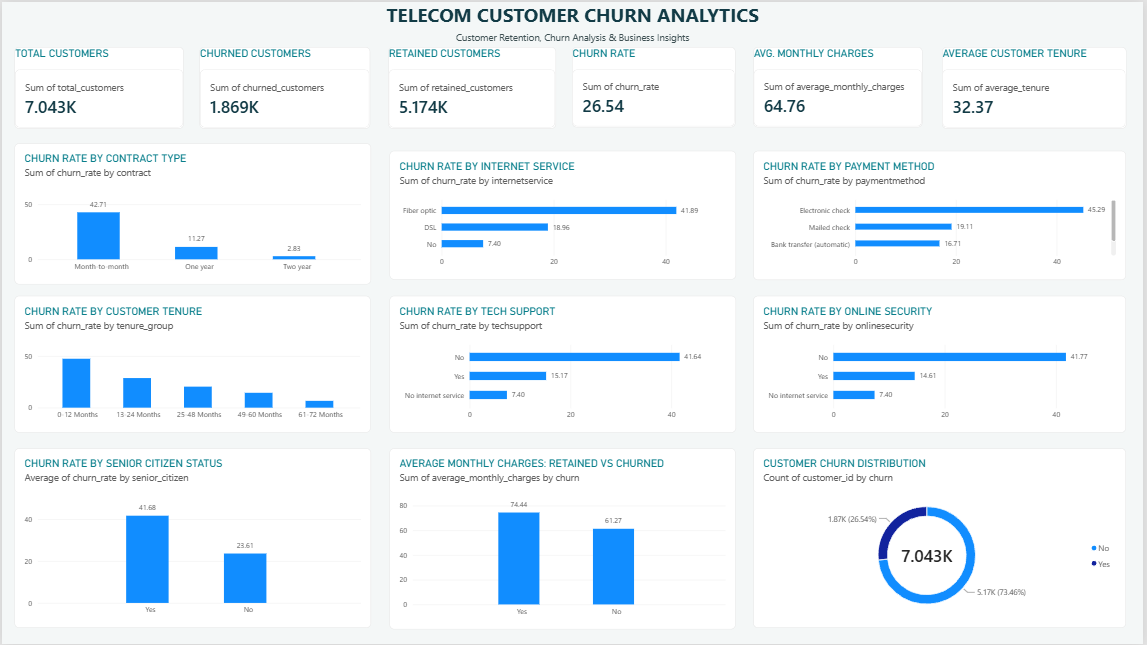

What the dashboard file says about the page in this screenshot:
{"tool":"powerbi","page":{"name":"Executive Overview","canvas":[1920,1080],"ordinal":0},"visuals":[{"type":"textbox","box":[0,0,1920.4,47.3],"z":0},{"type":"textbox","box":[0,47.3,1920.4,26.8],"z":1},{"type":"cardVisual","title":"TOTAL CUSTOMERS","fields":{"Data":["Sum(telecom_churn_analytics churn_summary.total_customers)"]},"box":[20,75,285,137.5],"z":2},{"type":"cardVisual","title":"CHURNED CUSTOMERS","fields":{"Data":["Sum(telecom_churn_analytics churn_summary.churned_customers)"]},"box":[332.5,75,287.5,137.5],"z":3},{"type":"cardVisual","title":"RETAINED CUSTOMERS","fields":{"Data":["Sum(telecom_churn_analytics churn_summary.retained_customers)"]},"box":[650,75,282.5,137.5],"z":4},{"type":"cardVisual","title":"CHURN RATE","fields":{"Data":["Sum(telecom_churn_analytics churn_summary.churn_rate)"]},"box":[960,75,275,135],"z":5},{"type":"cardVisual","title":"AVG. MONTHLY CHARGES","fields":{"Data":["Sum(telecom_churn_analytics churn_summary.average_monthly_charges)"]},"box":[1265,75,285,135],"z":6},{"type":"cardVisual","title":"AVERAGE CUSTOMER TENURE","fields":{"Data":["Sum(telecom_churn_analytics churn_summary.average_tenure)"]},"box":[1582.5,75,310,137.5],"z":7},{"type":"clusteredColumnChart","title":"CHURN RATE BY CONTRACT TYPE","fields":{"Category":["telecom_churn_analytics churn_by_contract.contract"],"Y":["Sum(telecom_churn_analytics churn_by_contract.churn_rate)"]},"box":[20,237.5,600,237.5],"z":8},{"type":"clusteredBarChart","title":"CHURN RATE BY INTERNET SERVICE","fields":{"Category":["telecom_churn_analytics churn_by_internet_service.internetservice"],"Y":["Sum(telecom_churn_analytics churn_by_internet_service.churn_rate)"]},"box":[652.5,250,583.3,216.7],"z":9},{"type":"clusteredBarChart","title":"CHURN RATE BY PAYMENT METHOD","fields":{"Category":["telecom_churn_analytics churn_by_payment_method.paymentmethod"],"Y":["Sum(telecom_churn_analytics churn_by_payment_method.churn_rate)"]},"box":[1265,250,627.5,217.5],"z":10},{"type":"clusteredColumnChart","title":"CHURN RATE BY CUSTOMER TENURE","fields":{"Category":["telecom_churn_analytics churn_by_tenure.tenure_group"],"Y":["Sum(telecom_churn_analytics churn_by_tenure.churn_rate)"]},"box":[20,495,599,230.5],"z":11},{"type":"clusteredColumnChart","title":"CHURN RATE BY SENIOR CITIZEN STATUS","fields":{"Category":["telecom_churn_analytics churn_by_senior_citizen.senior_citizen"],"Y":["Avg(telecom_churn_analytics churn_by_senior_citizen.churn_rate)"]},"box":[20,750,600,302.5],"z":12},{"type":"clusteredBarChart","title":"CHURN RATE BY ONLINE SECURITY","fields":{"Category":["telecom_churn_analytics churn_by_online_security.onlinesecurity"],"Y":["Sum(telecom_churn_analytics churn_by_online_security.churn_rate)"]},"box":[1265,495,627.5,230],"z":13},{"type":"clusteredBarChart","title":"CHURN RATE BY TECH SUPPORT","fields":{"Category":["telecom_churn_analytics churn_by_tech_support.techsupport"],"Y":["Sum(telecom_churn_analytics churn_by_tech_support.churn_rate)"]},"box":[652.5,495,583.3,230],"z":14},{"type":"clusteredColumnChart","title":"AVERAGE MONTHLY CHARGES: RETAINED VS CHURNED","fields":{"Category":["telecom_churn_analytics customer_value_by_churn.churn"],"Y":["Sum(telecom_churn_analytics customer_value_by_churn.average_monthly_charges)"]},"box":[652.5,750,582.5,305],"z":15},{"type":"donutChart","title":"CUSTOMER CHURN DISTRIBUTION","fields":{"Category":["telecom_churn_analytics customers.churn"],"Y":["Count(telecom_churn_analytics customers.customer_id)"]},"box":[1265,750,627.5,302.5],"z":16}]}

Visuals, with their boxes in screenshot pixels (x1, y1, x2, y2), scaled from the page's 1920x1080 canvas onto the 1147x645 screenshot:
textbox: 0,0,1146,28
textbox: 0,28,1146,44
"TOTAL CUSTOMERS" cardVisual: 12,45,182,127
"CHURNED CUSTOMERS" cardVisual: 199,45,370,127
"RETAINED CUSTOMERS" cardVisual: 388,45,557,127
"CHURN RATE" cardVisual: 574,45,738,125
"AVG. MONTHLY CHARGES" cardVisual: 756,45,926,125
"AVERAGE CUSTOMER TENURE" cardVisual: 945,45,1131,127
"CHURN RATE BY CONTRACT TYPE" clusteredColumnChart: 12,142,370,284
"CHURN RATE BY INTERNET SERVICE" clusteredBarChart: 390,149,738,279
"CHURN RATE BY PAYMENT METHOD" clusteredBarChart: 756,149,1131,279
"CHURN RATE BY CUSTOMER TENURE" clusteredColumnChart: 12,296,370,433
"CHURN RATE BY SENIOR CITIZEN STATUS" clusteredColumnChart: 12,448,370,629
"CHURN RATE BY ONLINE SECURITY" clusteredBarChart: 756,296,1131,433
"CHURN RATE BY TECH SUPPORT" clusteredBarChart: 390,296,738,433
"AVERAGE MONTHLY CHARGES: RETAINED VS CHURNED" clusteredColumnChart: 390,448,738,630
"CUSTOMER CHURN DISTRIBUTION" donutChart: 756,448,1131,629
